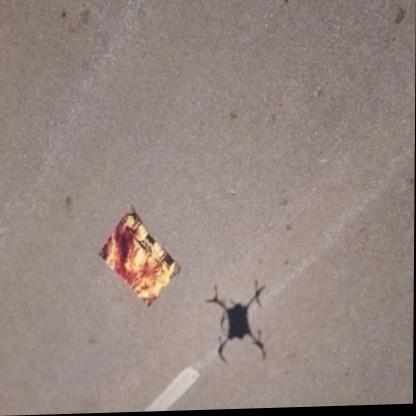fire-poster: (98, 205, 183, 311)
